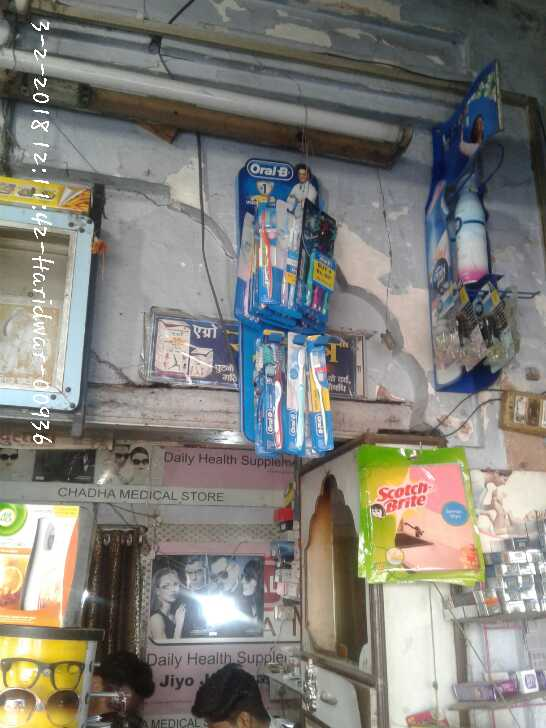oralb: (244, 192, 340, 323), (303, 331, 338, 458), (255, 341, 284, 452), (286, 338, 313, 446)
